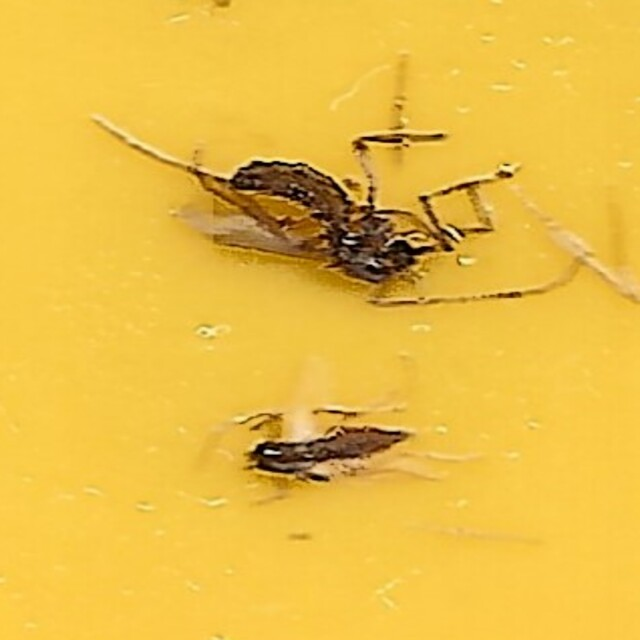Nematocera: (201, 152, 439, 296), (223, 406, 413, 488)
